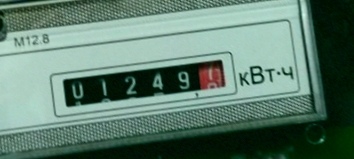0: (70, 79, 86, 100)
1: (97, 76, 111, 98)
2: (121, 73, 140, 97)
4: (150, 70, 166, 91)
7: (203, 60, 219, 82)
9: (176, 69, 192, 91)
screen: (46, 47, 242, 120)
